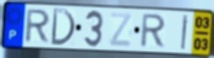3: (83, 9, 105, 48)
D: (49, 7, 77, 47)
I: (180, 14, 190, 52)
R: (23, 8, 52, 44), (139, 13, 168, 49)
Z: (108, 11, 134, 49)
